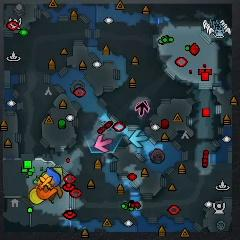Other: (37, 173, 53, 192)
p1: (46, 167, 60, 187)
p4: (30, 189, 44, 204)
p5: (36, 186, 58, 200)
x1: (94, 136, 112, 153)
x1Clone: (135, 102, 149, 117)
x2: (53, 167, 63, 182)
x3: (129, 129, 148, 148)
x5: (50, 185, 63, 201)
